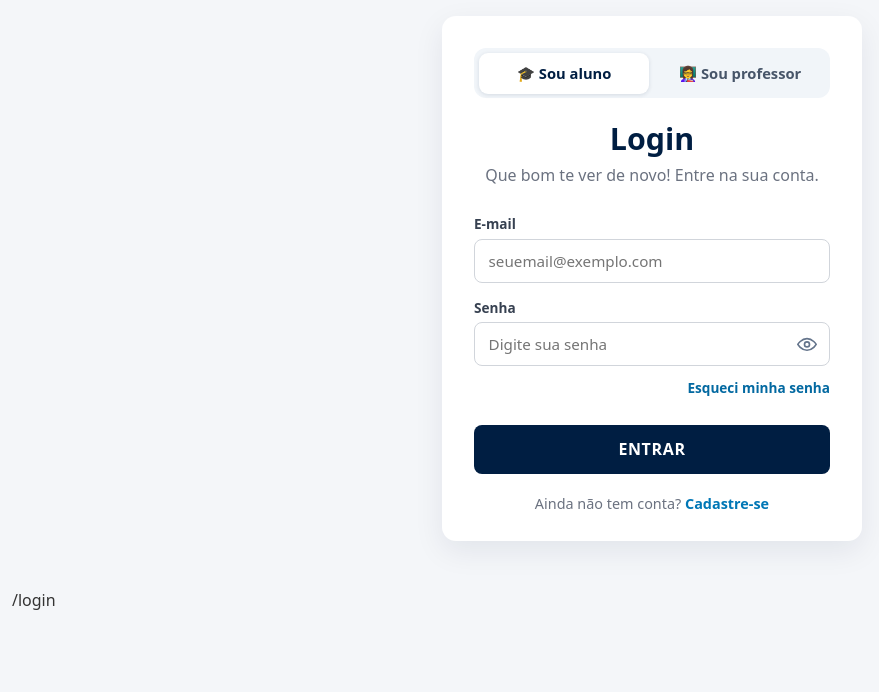
it: senha errada mostra mensagem e continua na tela de login
Step 1. Type "maria@teste.com" into the field labelled "E-mail" → (652, 261), box 474,239 -> 830,283
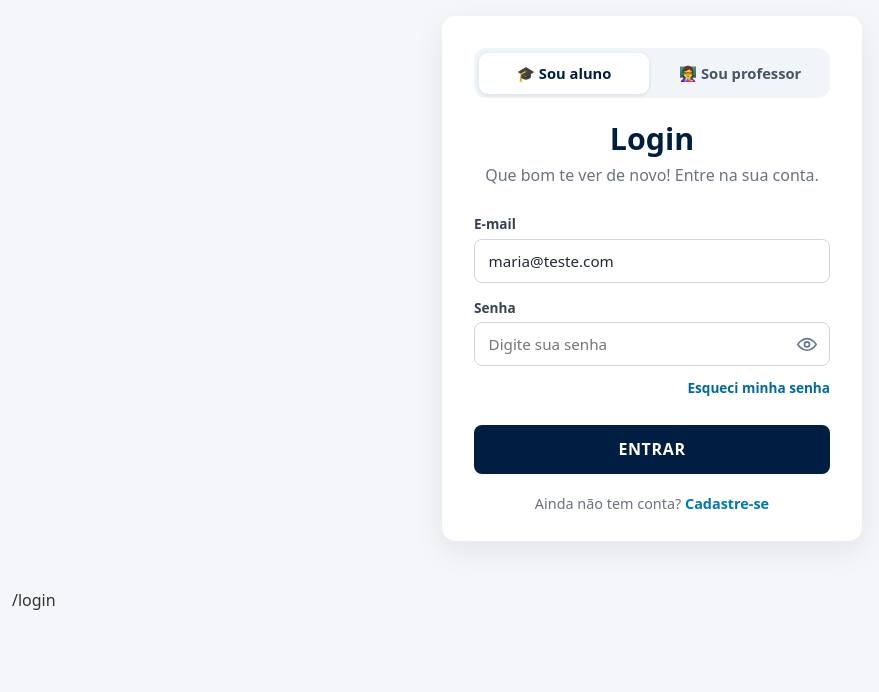
Step 2. Type "senha123" into the password field labelled "Senha" → (652, 344), box 474,322 -> 830,366
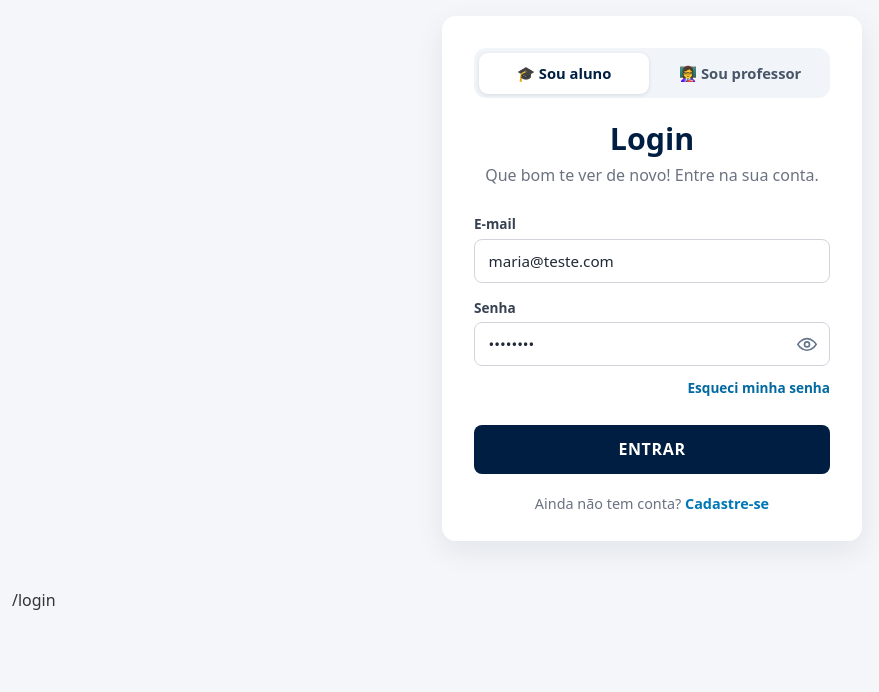
Step 3. Click the button "ENTRAR" → (652, 449), box 474,425 -> 830,474
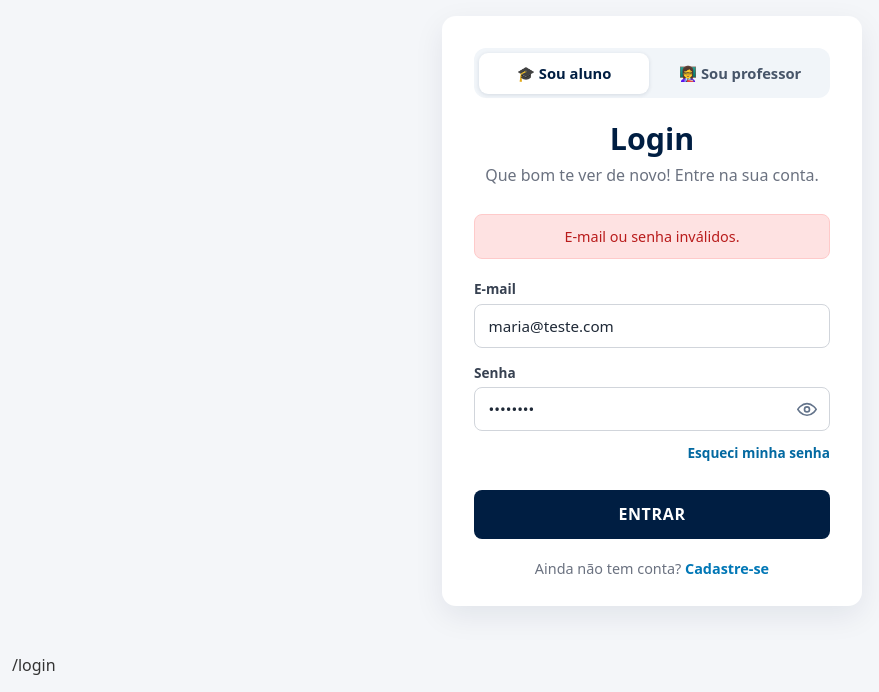
Check: the text with test id "endereco" reads "/login", box 12,654 -> 56,676
Check: the text "E-mail ou senha inválidos." is shown, box 474,214 -> 830,259
